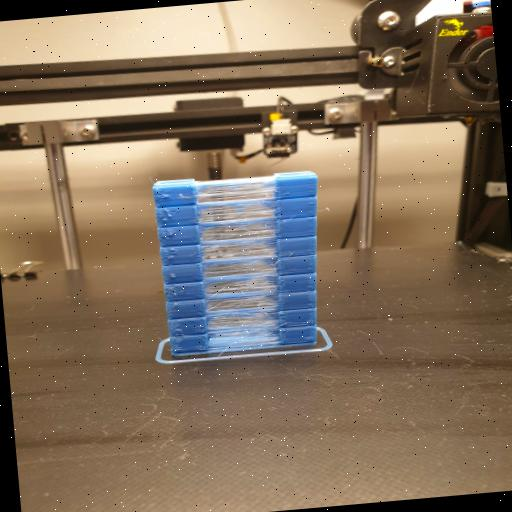stringing: (199, 181, 271, 201), (198, 202, 275, 220), (200, 222, 272, 240), (201, 260, 273, 277), (202, 242, 271, 258), (206, 295, 275, 311), (206, 280, 277, 294), (208, 314, 276, 328)
